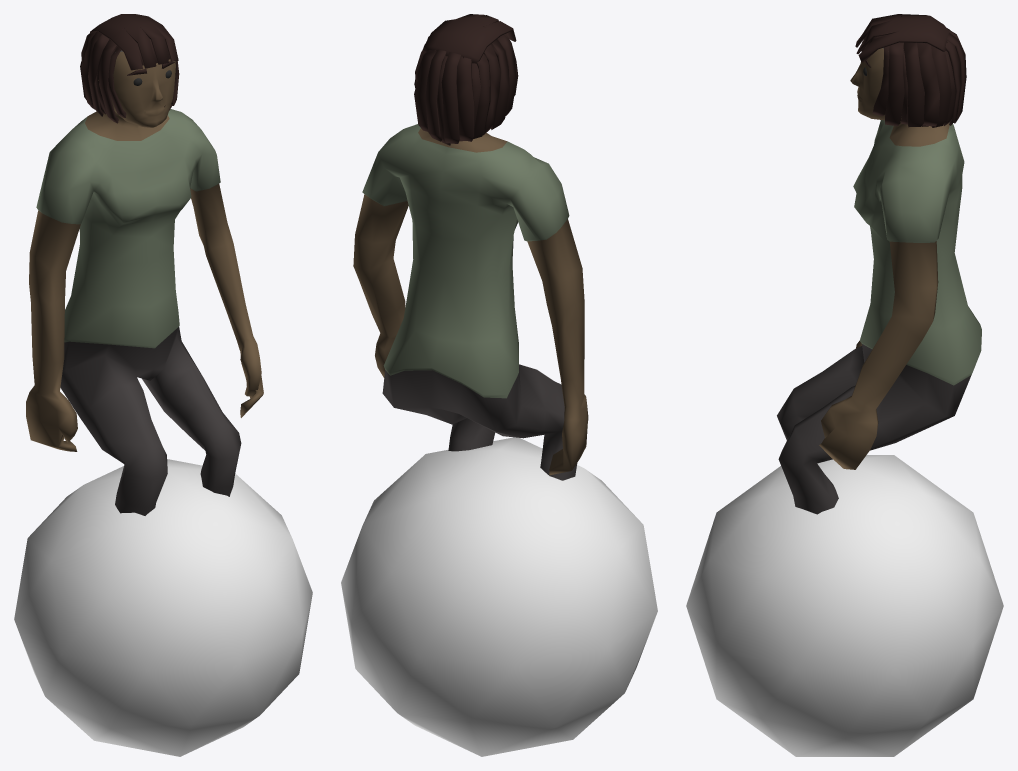
Rendered from adult-woman.glb.
The picture shows the model from 3 angles, left to right: view 1: azimuth 30°, elevation 25°; view 2: azimuth 150°, elevation 25°; view 3: azimuth 270°, elevation 25°; orthographic projection. The views are drawn at different scales.
Parts seen in each view (by area): view 1: Female baked, Icosphere baked; view 2: Icosphere baked, Female baked; view 3: Icosphere baked, Female baked.
Boxes of the visible parts, x1,y1,x2,y2 form: Female baked: (26, 14, 263, 515); Icosphere baked: (14, 459, 312, 756); Icosphere baked: (341, 437, 657, 756); Female baked: (353, 14, 588, 480); Icosphere baked: (686, 455, 1003, 756); Female baked: (777, 14, 981, 514).
Size of the model in its own units: 0.6372 by 1.7 by 0.67.
